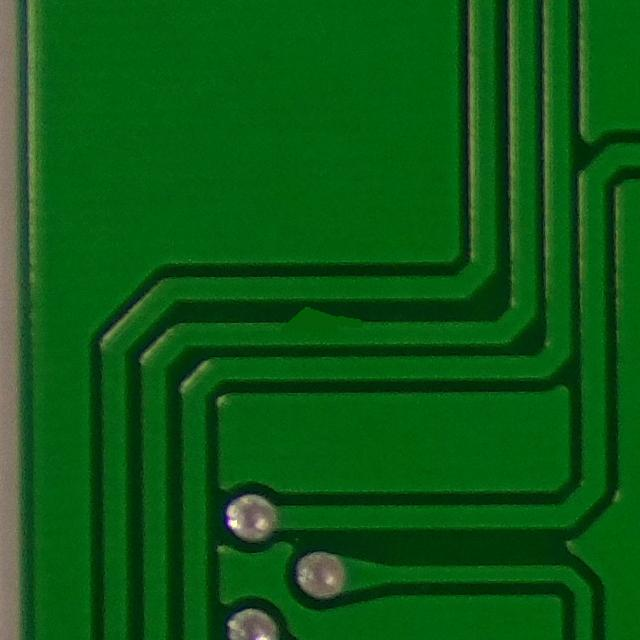spur: (273, 299, 368, 341)
